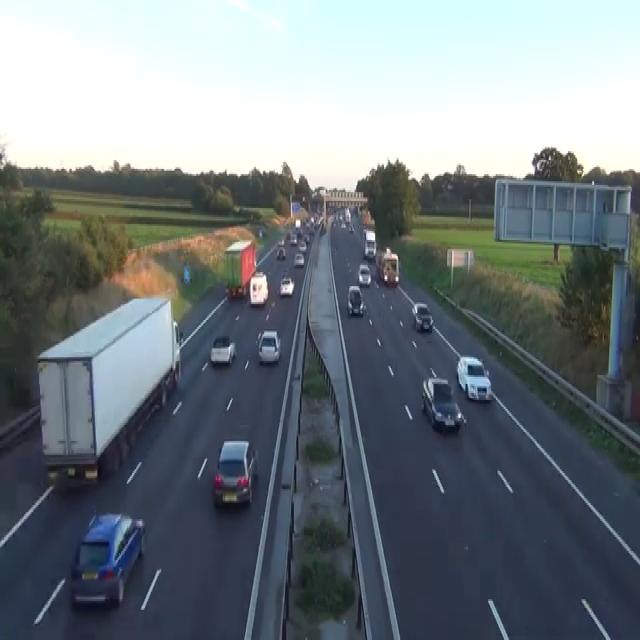Car: (70, 510, 146, 608), (212, 439, 258, 507), (421, 375, 465, 430), (456, 356, 491, 402), (258, 329, 281, 363), (210, 334, 236, 364), (411, 300, 434, 332), (346, 284, 364, 316), (279, 275, 294, 297), (358, 263, 371, 286), (173, 318, 183, 347), (293, 252, 304, 266), (276, 246, 285, 260), (298, 240, 306, 251), (289, 235, 297, 245), (319, 224, 326, 235), (277, 237, 284, 247), (303, 233, 310, 243), (285, 229, 291, 240), (348, 224, 354, 233), (340, 222, 346, 228), (258, 228, 262, 236)
Truck: (36, 295, 181, 489), (223, 238, 256, 299), (375, 246, 399, 286), (249, 270, 268, 306), (363, 230, 376, 260)
